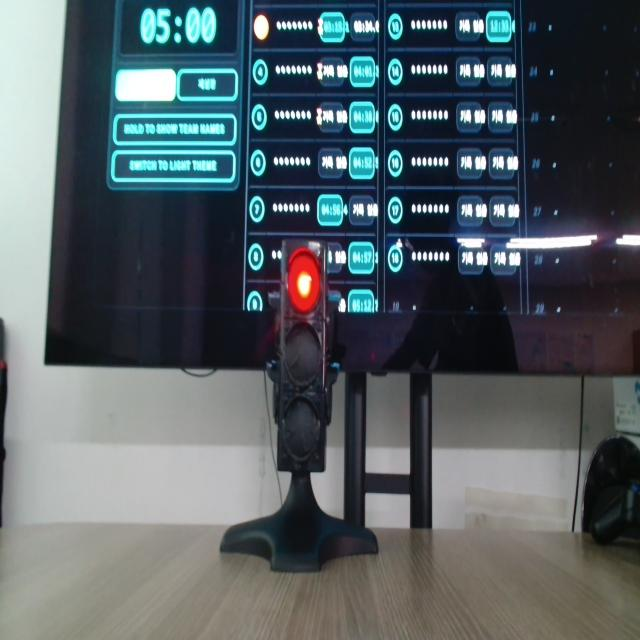red_light: (288, 249, 320, 313)
